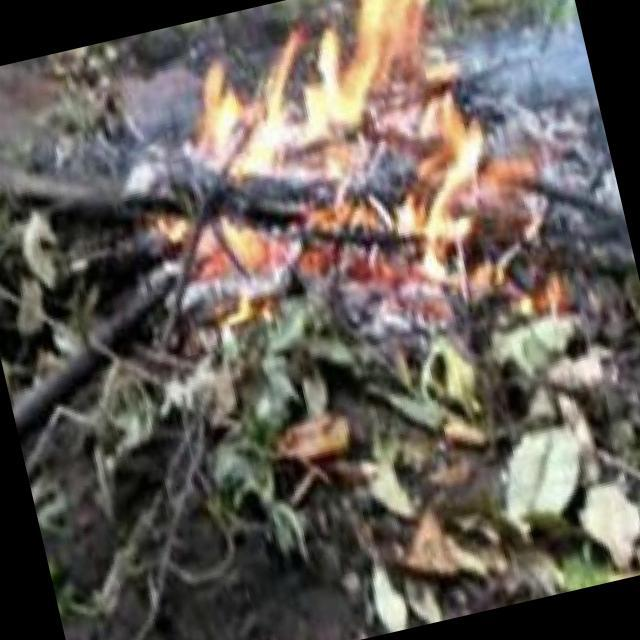Fire: (126, 1, 565, 378)
